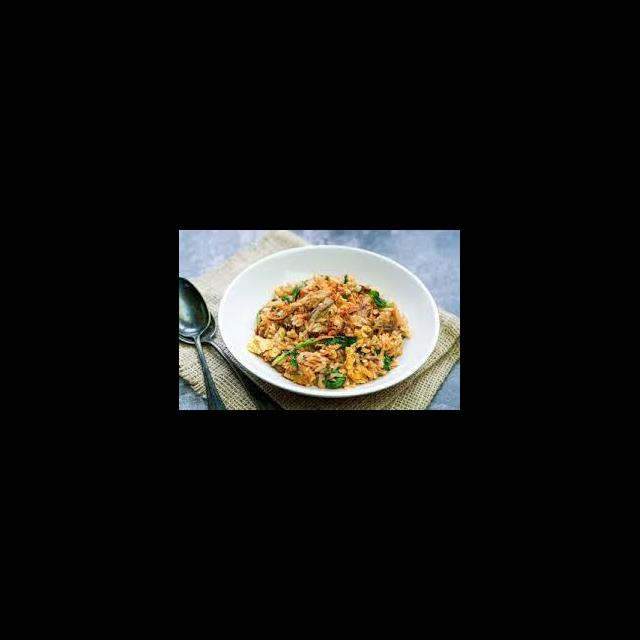food_waste: (282, 302, 368, 363)
